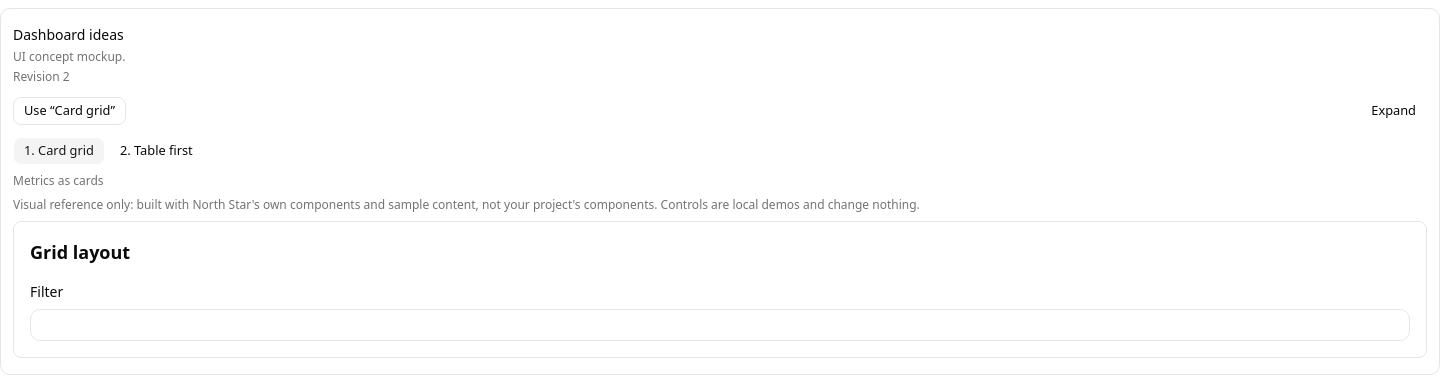
it: UiConceptPreview › switches alternatives in one figure and chooses the one shown
The width and height of the screenshot is (1440, 392).
Check: the number of elements named "UI concept preview" is 1, box [13, 221, 1427, 358]
Check: the heading "Grid layout" is shown, box [30, 240, 130, 264]
Step 1. Type "typed" into the field labelled "Filter" → (720,325), box [30, 309, 1410, 341]
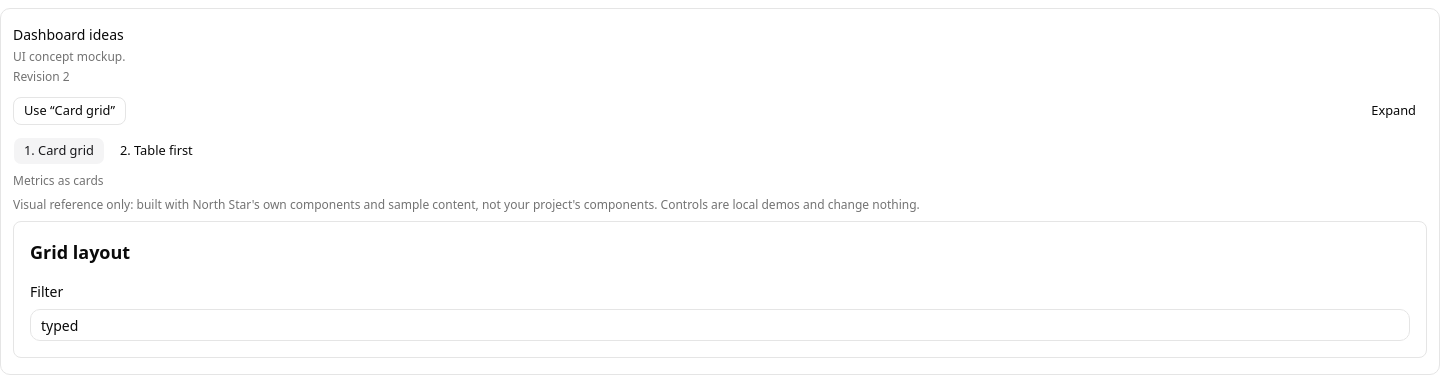
Step 2. Click the button "Use “Card grid”" → (70,111), box [13, 97, 126, 125]
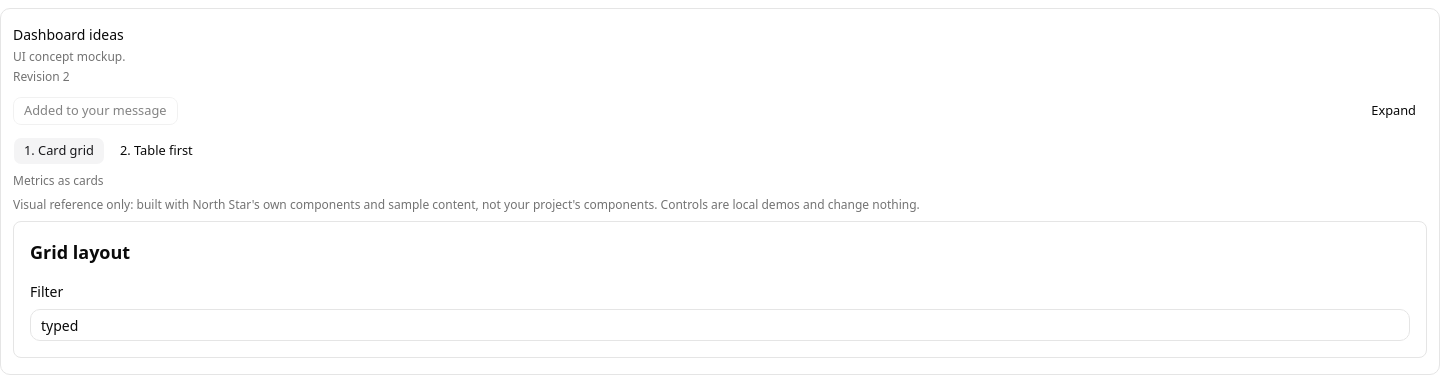
Check: the button "Added to your message" is shown, box [13, 97, 178, 125]
Step 3. Click the button "2. Table first" → (156,151), box [109, 137, 204, 165]
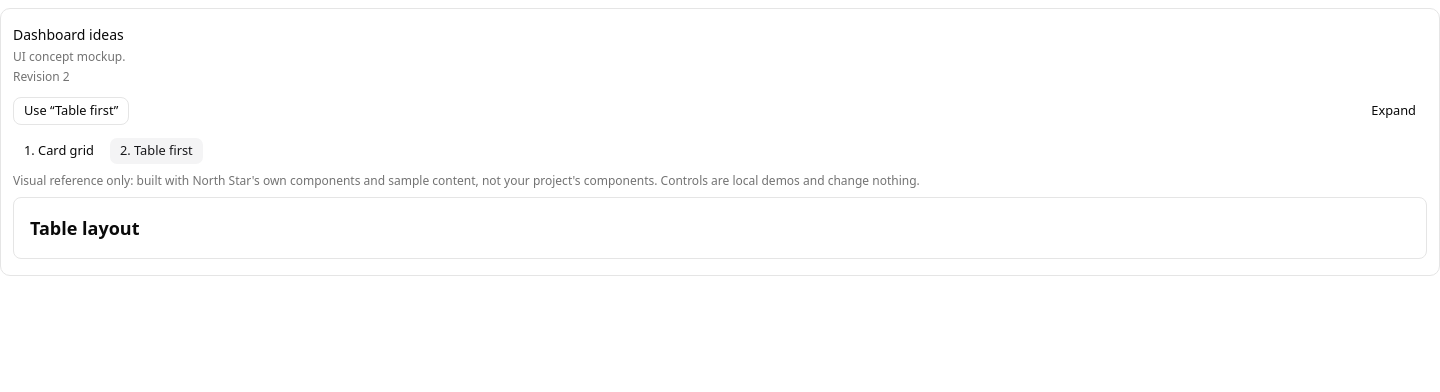
Check: the heading "Table layout" is shown, box [30, 216, 140, 240]
Step 4. Click the button "Use “Table first”" → (71,111), box [13, 97, 130, 125]
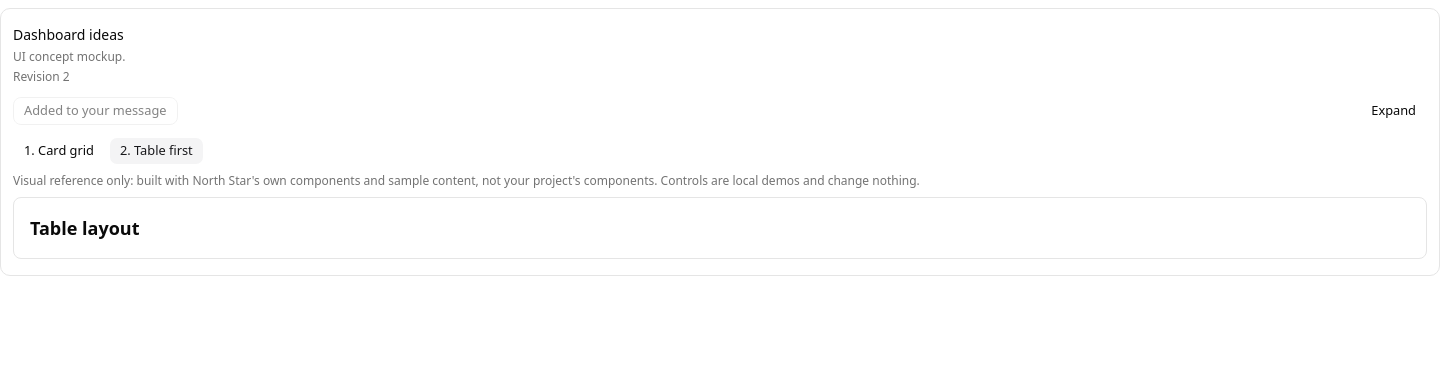
Step 5. Click the button "1. Card grid" → (59,151), box [13, 137, 105, 165]
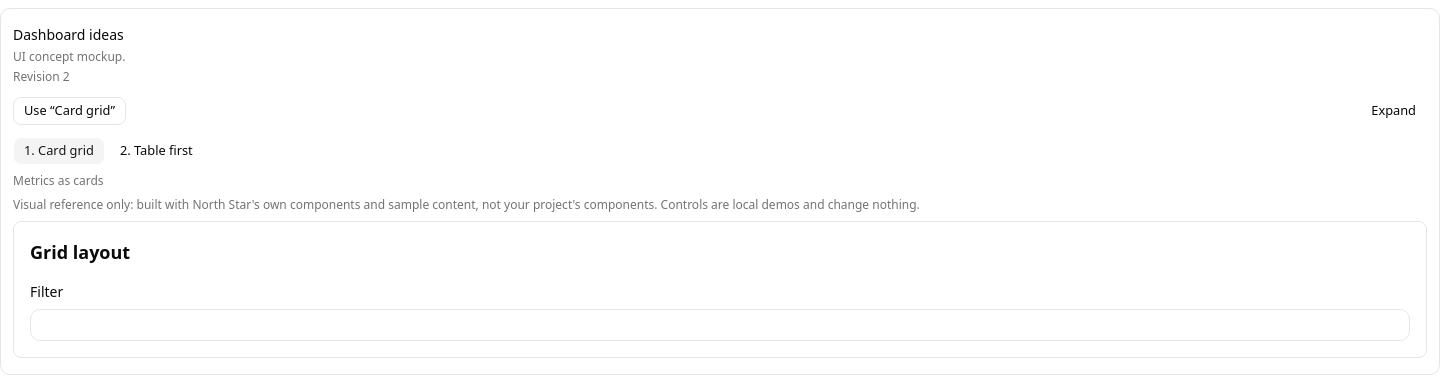
Check: the field labelled "Filter" is empty, box [30, 309, 1410, 341]
Check: the button "Use “Card grid”" is shown, box [13, 97, 126, 125]
